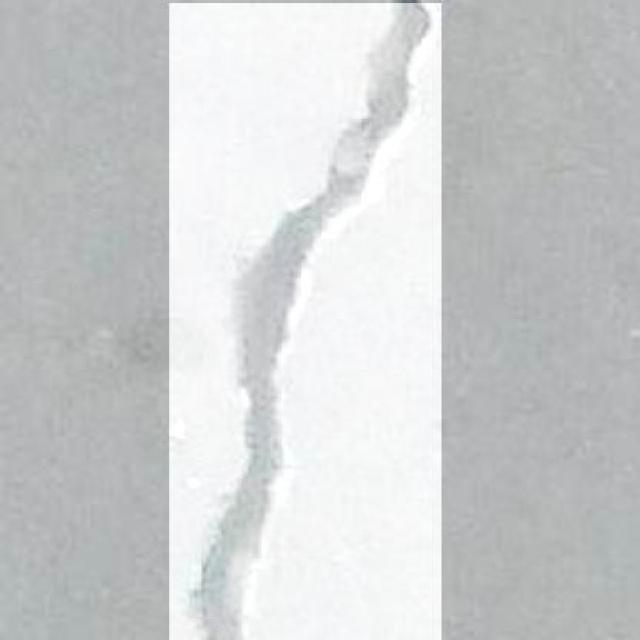SurfaceCrack: (144, 2, 462, 640)
